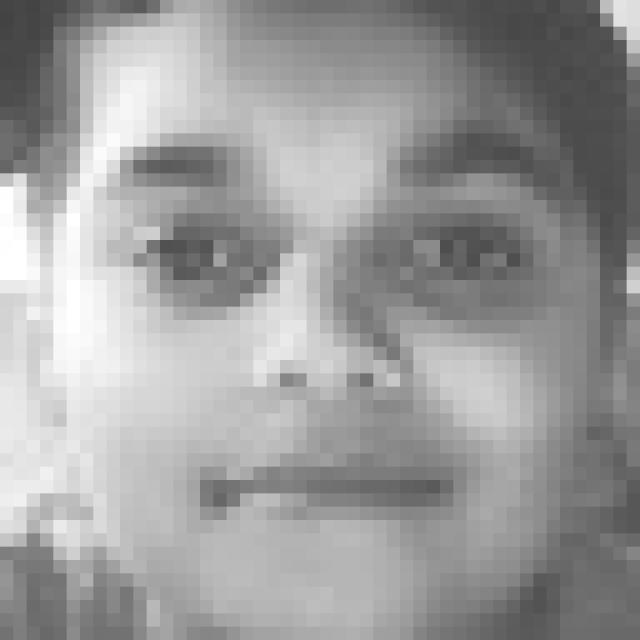neutral: (98, 120, 587, 542)
